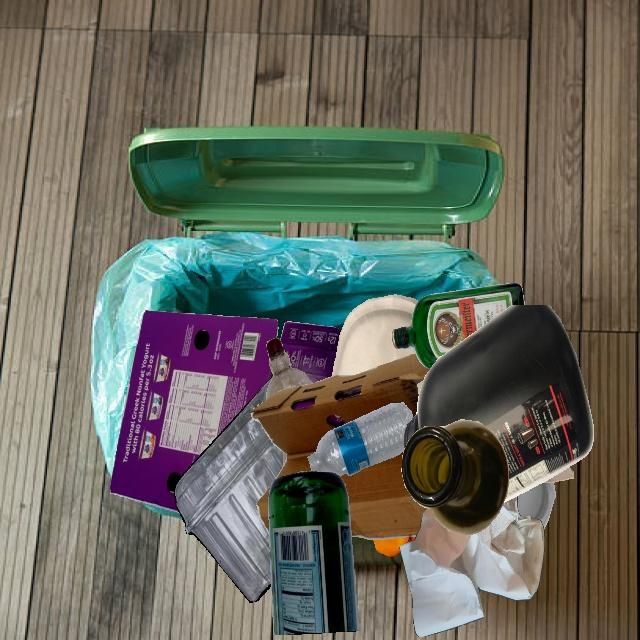biowaste: (373, 536, 416, 557)
cardboard: (110, 311, 278, 513), (251, 354, 430, 475), (339, 451, 426, 539)
glass: (268, 472, 359, 635), (401, 419, 509, 535), (391, 283, 524, 369)
paper: (399, 495, 545, 637), (332, 295, 419, 376), (544, 466, 574, 483)
plastic: (403, 305, 594, 503), (174, 375, 284, 603), (308, 402, 413, 476), (266, 338, 313, 400), (517, 482, 555, 528)
